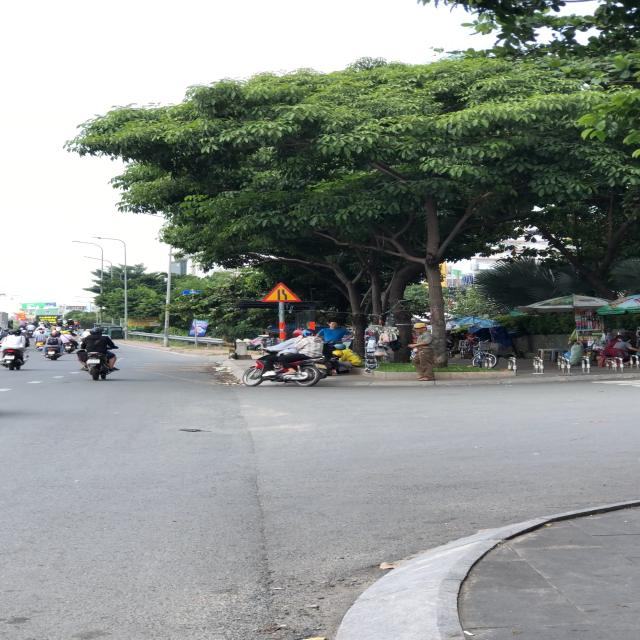Bien bao duong bi thu hep: (259, 280, 308, 304)
